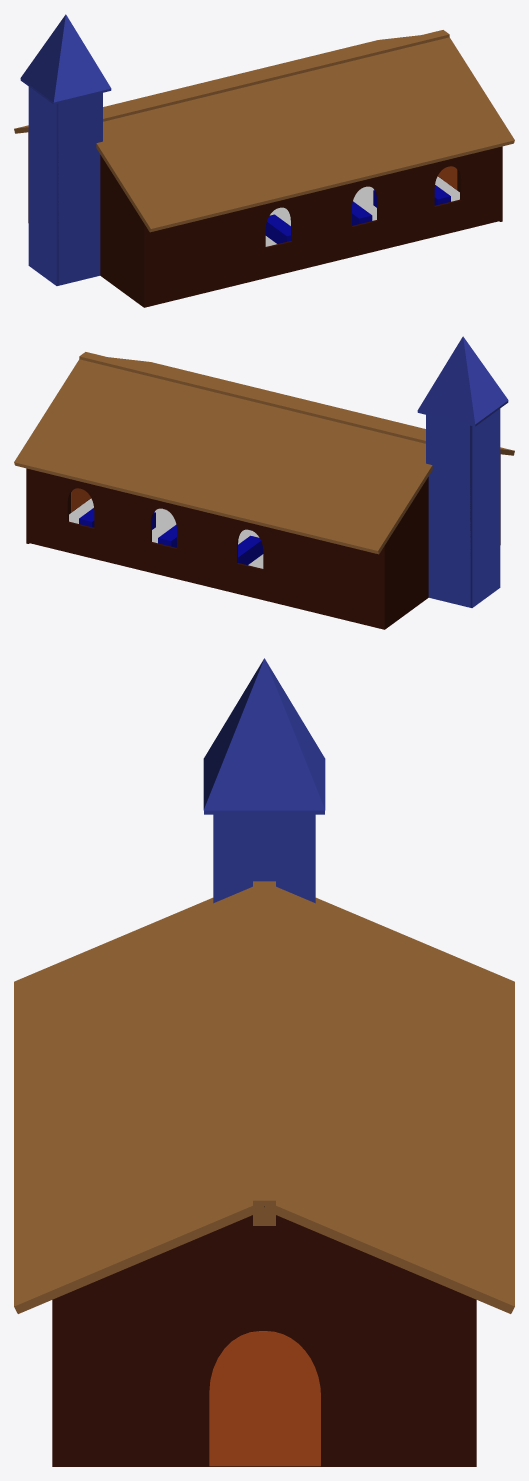
The model's file is flat-church.FBX.
3 views of the same model, one above another, from view 1: azimuth 30°, elevation 25°; view 2: azimuth 150°, elevation 25°; view 3: azimuth 270°, elevation 25° (orthographic). The views are drawn at different scales.
Parts seen in each view (by area): view 1: Cone; view 2: Cone; view 3: Cone.
Part boxes in pixels (bbox=[...]): Cone: bbox=[14, 14, 514, 307]; Cone: bbox=[14, 336, 514, 629]; Cone: bbox=[14, 658, 514, 1466].
Size of the model in its own units: 141413 by 84963 by 81919.
